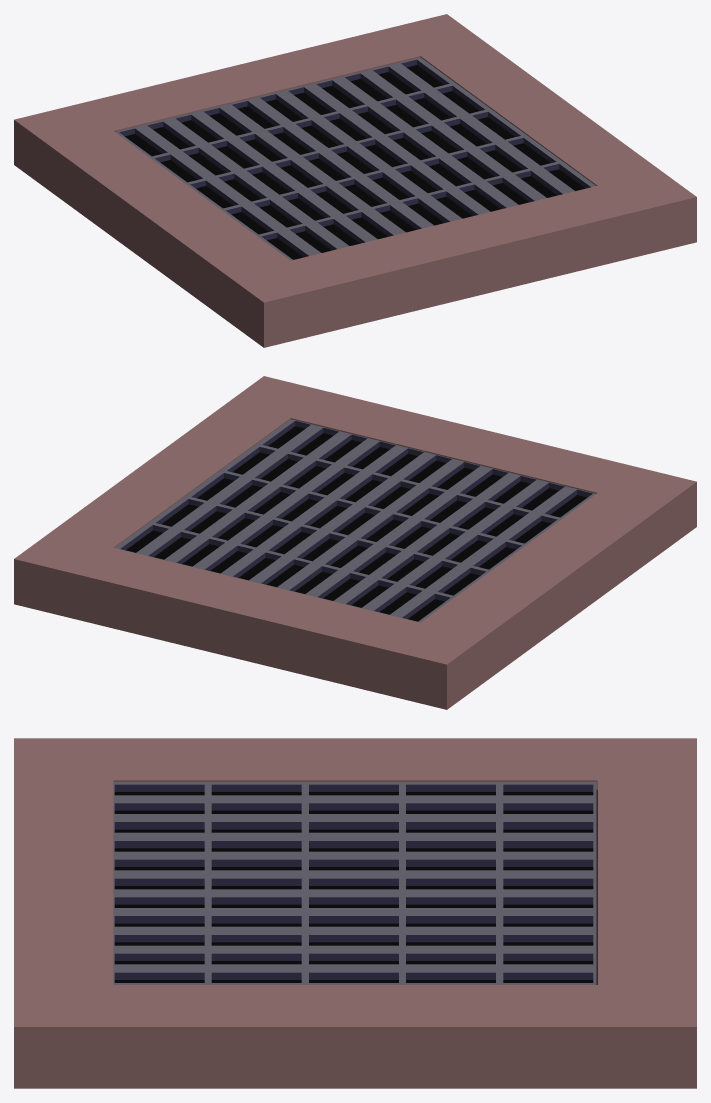
File: floor.glb
The picture shows the model from 3 angles, top to bottom: view 1: azimuth 30°, elevation 25°; view 2: azimuth 150°, elevation 25°; view 3: azimuth 270°, elevation 25°; orthographic projection. The views are drawn at different scales.
Visible parts, largest first — view 1: Cube, Cube.001; view 2: Cube, Cube.001; view 3: Cube, Cube.001.
Boxes of the visible parts, x1,y1,x2,y2 form: Cube: [14, 14, 696, 347]; Cube.001: [115, 57, 595, 260]; Cube: [14, 376, 696, 709]; Cube.001: [115, 419, 595, 622]; Cube: [14, 738, 696, 1088]; Cube.001: [113, 782, 596, 984].
Bounding box in the file's own units: 4 × 0.4 × 4.
